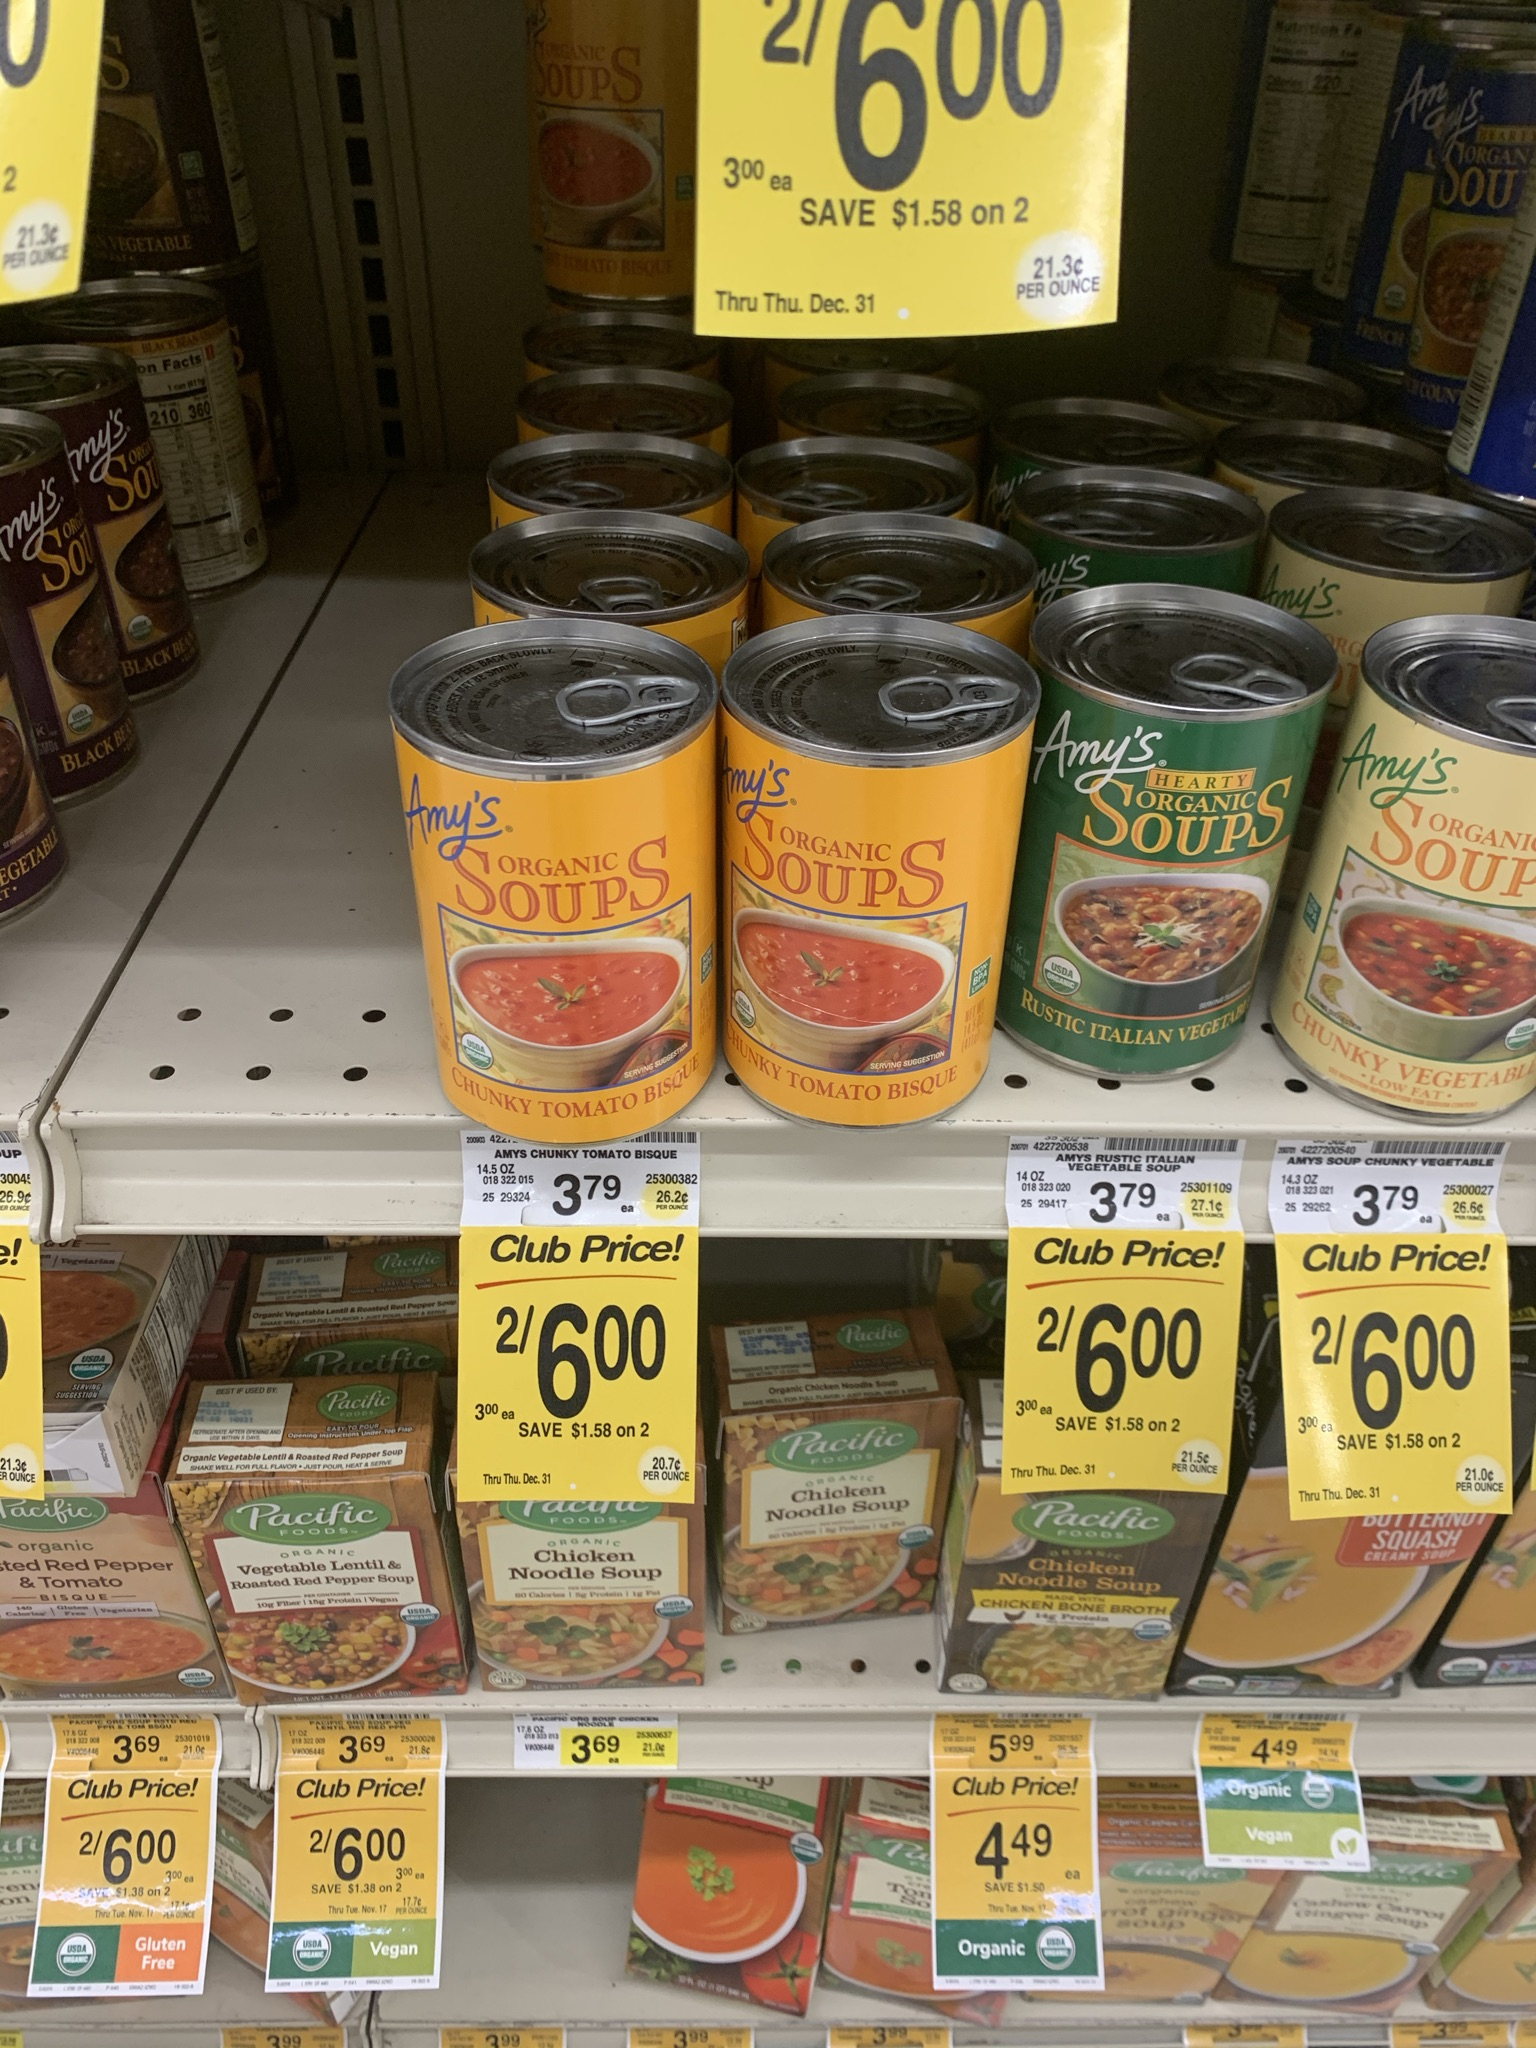box: (726, 1401, 952, 1630), (218, 1484, 429, 1679), (991, 1509, 1173, 1700), (1233, 1521, 1426, 1693), (649, 1798, 803, 1996), (1284, 1874, 1431, 2009)
can: (1041, 658, 1304, 1080), (1304, 651, 1536, 1126), (737, 701, 1000, 1105), (439, 713, 682, 1121), (536, 31, 697, 298)
